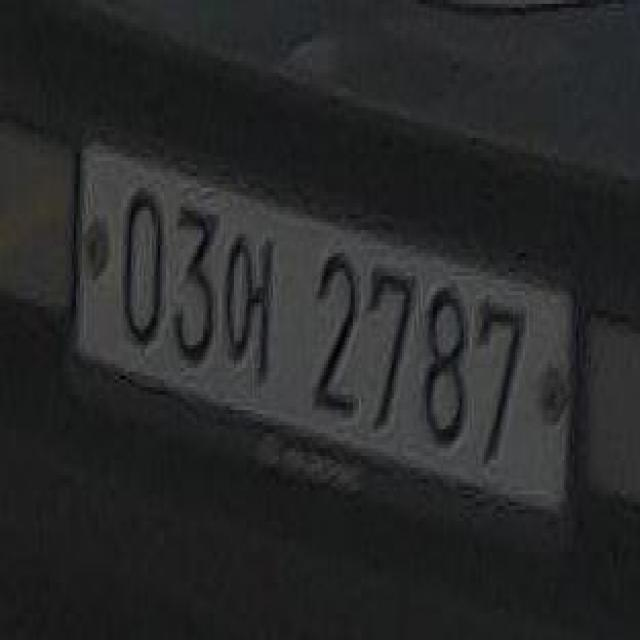illegal_plate: (74, 139, 583, 539)
